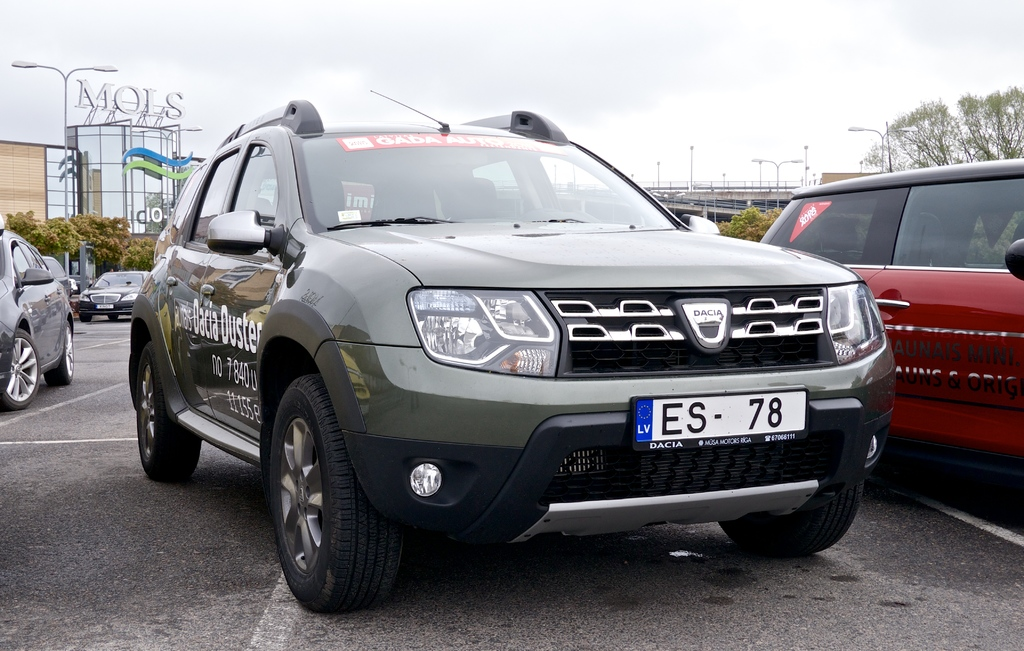Car: (128, 87, 899, 617), (759, 160, 1023, 493), (0, 228, 73, 408), (79, 269, 153, 321)
